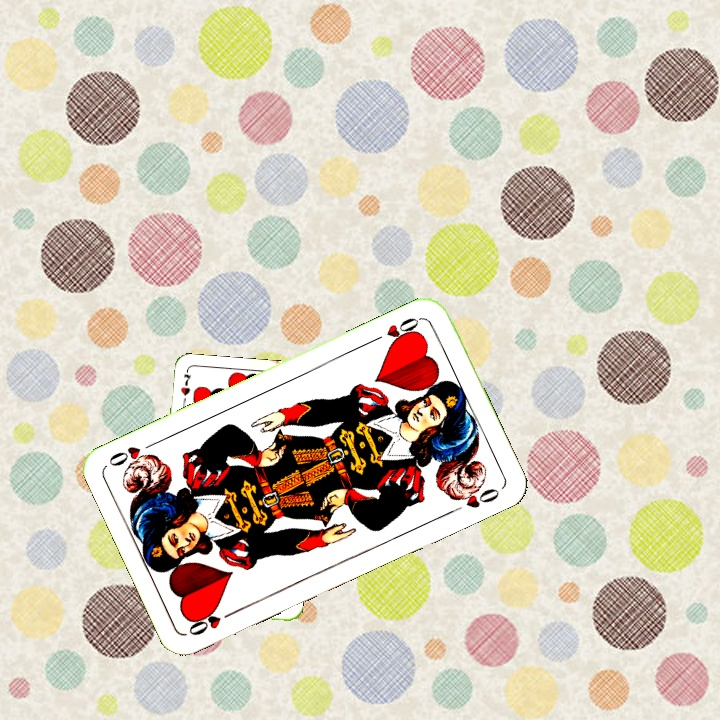H7: (177, 368, 194, 409)
HO: (368, 313, 423, 349), (184, 605, 240, 639)
